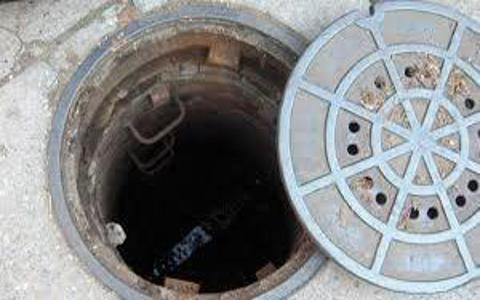open manhole: (51, 1, 343, 290)
